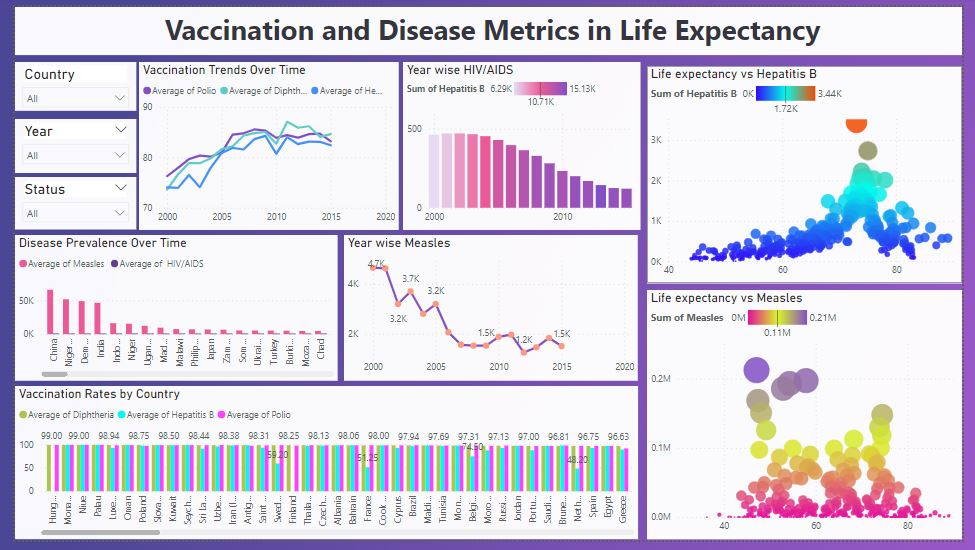

This screenshot's page, from the dashboard's own definition file:
{"tool":"powerbi","page":{"name":"Disease Metrics in Life Expectancy","canvas":[1280,720],"ordinal":2},"visuals":[{"type":"textbox","box":[0,0,1280.2,64.8],"z":0},{"type":"lineChart","title":"Vaccination Trends Over Time","fields":{"Category":["Life Expectancy Data.Year"],"Y":["Avg(Life Expectancy Data.Polio)","Avg(Life Expectancy Data.Diphtheria)","Avg(Life Expectancy Data.Hepatitis B)"]},"box":[167.2,74.6,350.7,226.9],"z":1000},{"type":"clusteredColumnChart","title":"Vaccination Rates by Country","fields":{"Category":["Life Expectancy Data.Country"],"Y":["Avg(Life Expectancy Data.Diphtheria)","Avg(Life Expectancy Data.Hepatitis B)","Avg(Life Expectancy Data.Polio)"]},"box":[0,512.6,842.4,207.4],"z":2000},{"type":"slicer","fields":{"Values":["Life Expectancy Data.Country"]},"box":[0,74.6,164.2,65.7],"z":3000},{"type":"slicer","fields":{"Values":["Life Expectancy Data.Year"]},"box":[0,151.7,164.2,73.2],"z":4000},{"type":"columnChart","title":"Year wise HIV/AIDS  ","fields":{"Category":["Life Expectancy Data.Year"],"Y":["Sum(Life Expectancy Data. HIV/AIDS)"]},"box":[523.9,74.6,320.9,226.9],"z":5000},{"type":"slicer","fields":{"Values":["Life Expectancy Data.Status"]},"box":[0,230.3,164.2,71.4],"z":6000},{"type":"scatterChart","title":"Life expectancy vs Measles ","fields":{"X":["Life Expectancy Data.Life expectancy "],"Y":["Sum(Life Expectancy Data.Measles )"],"Size":["Sum(Life Expectancy Data.Measles )"]},"box":[853.9,383,426.2,337],"z":7000},{"type":"scatterChart","title":" Life expectancy vs Hepatitis B","fields":{"X":["Life Expectancy Data.Life expectancy "],"Y":["Sum(Life Expectancy Data.Hepatitis B)1"],"Size":["Sum(Life Expectancy Data.Hepatitis B)1"]},"box":[853.9,79.2,426.2,293.8],"z":8000},{"type":"lineChart","title":"Year wise Measles  ","fields":{"Category":["Life Expectancy Data.Year"],"Y":["Avg(Life Expectancy Data.Measles )"]},"box":[444.8,307.5,397,197],"z":9000},{"type":"clusteredColumnChart","title":"Disease Prevalence Over Time","fields":{"Y":["Avg(Life Expectancy Data.Measles )","Avg(Life Expectancy Data. HIV/AIDS)"],"Category":["Life Expectancy Data.Country"]},"box":[0,307.5,435.8,197],"z":9001}]}

Visuals, with their boxes in screenshot pixels (x1, y1, x2, y2), scaled from the page's 1280x720 canvas onto the 975x550 screenshot:
textbox: 0,0,974,49
"Vaccination Trends Over Time" lineChart: 127,57,394,230
"Vaccination Rates by Country" clusteredColumnChart: 0,392,642,549
slicer - Life Expectancy Data.Country: 0,57,125,107
slicer - Life Expectancy Data.Year: 0,116,125,172
"Year wise HIV/AIDS  " columnChart: 399,57,644,230
slicer - Life Expectancy Data.Status: 0,176,125,230
"Life expectancy vs Measles " scatterChart: 650,293,974,549
" Life expectancy vs Hepatitis B" scatterChart: 650,60,974,285
"Year wise Measles  " lineChart: 339,235,641,385
"Disease Prevalence Over Time" clusteredColumnChart: 0,235,332,385
